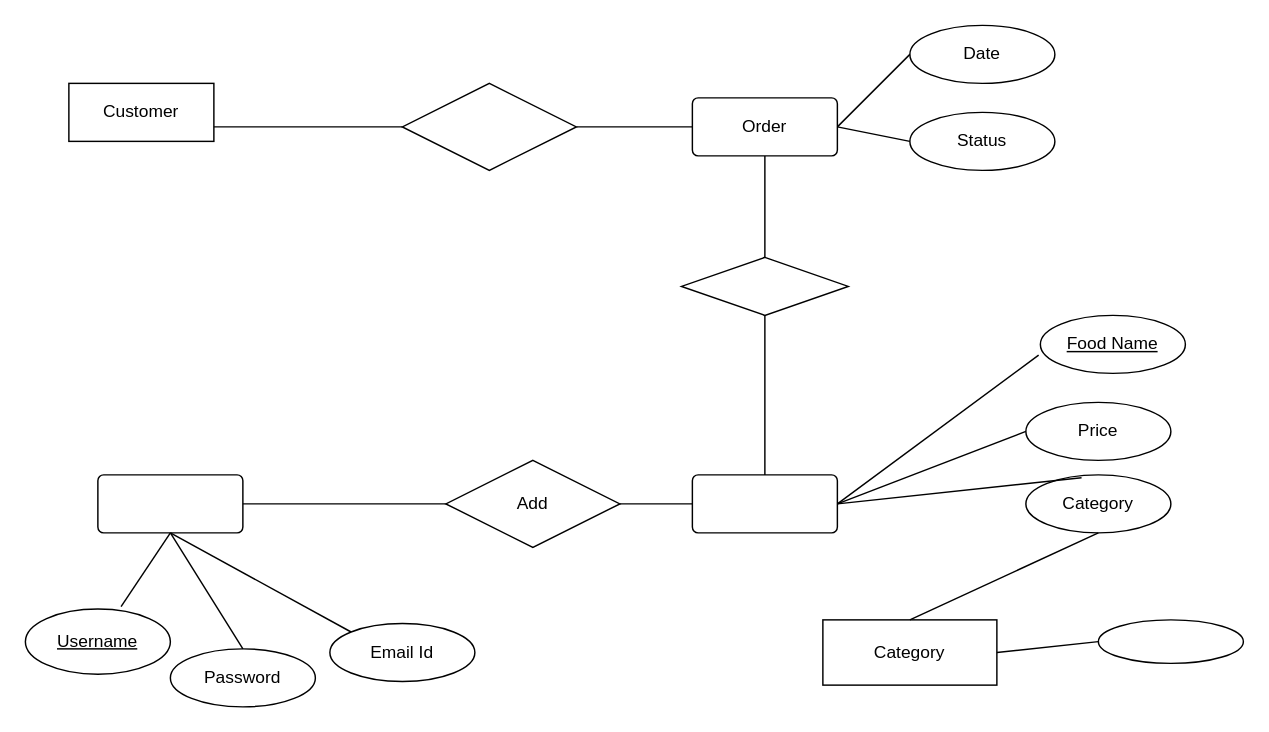
Image size: 1269x732. Some labels were removed from this diagram. The box of each missing label's shape, as (x1, y1, x2, y2) in pixels:
Category Name: (1097, 618, 1243, 663)
Employee: (96, 473, 243, 533)
Food Item: (691, 473, 837, 533)
Has: (680, 256, 848, 315)
Places: (401, 82, 576, 170)
